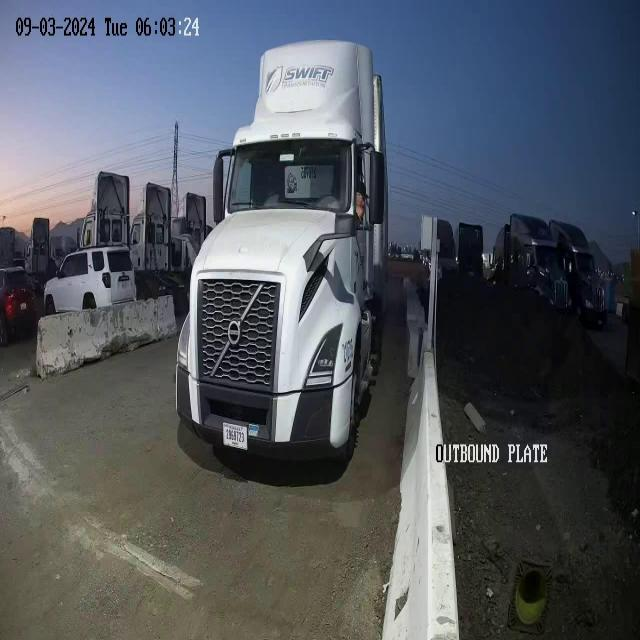TRUCK_CONTAINER: (175, 39, 392, 468)
